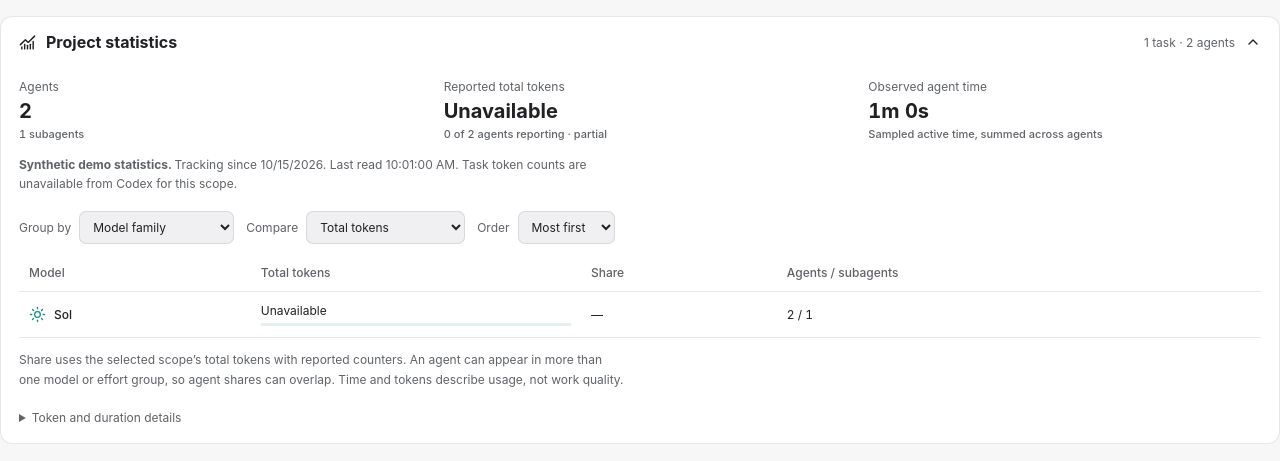
it: scoped statistics › shows missing usage and partial coverage without manufacturing a percentage or zero token count
The image size is (1280, 461).
Expected: the text "Sol" is shown, 54,307 -> 72,322
Expected: the text "Task token counts are unavailable" is shown, 19,157 -> 586,191
Step 1. Select "Observed agent time" in the dropdown labelled "Compare" → [386, 228], box 306,211 -> 465,244
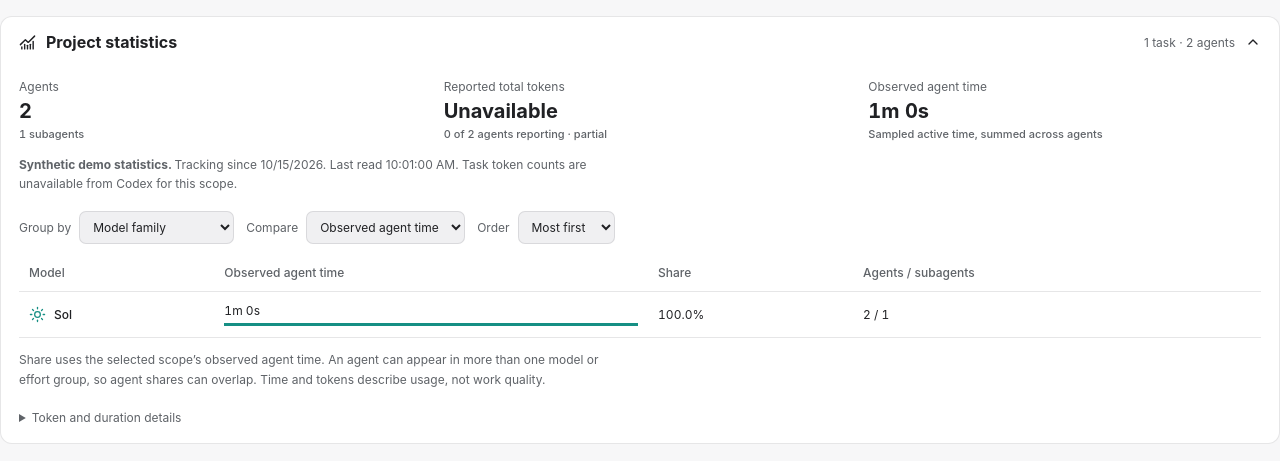
Result: the table shows "1m 0s" at 224,303 -> 260,318
Result: the table shows "100.0%" at 658,307 -> 704,322
